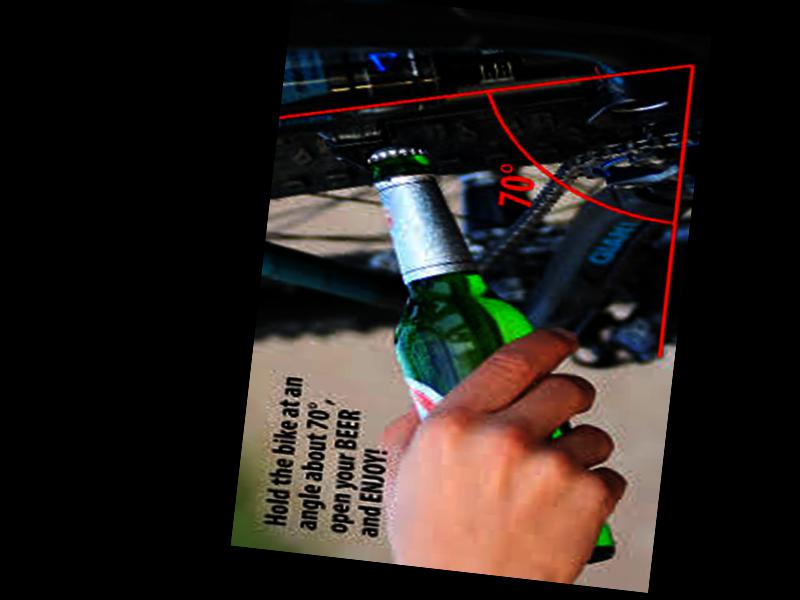Beer: (325, 136, 658, 567)
